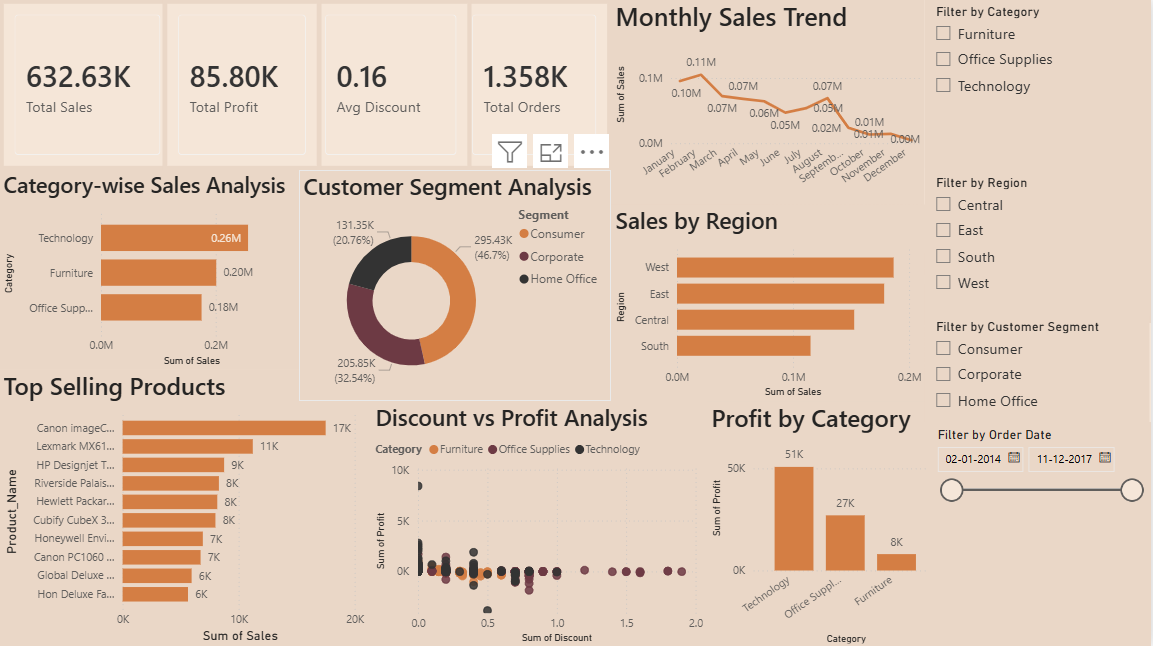

The dashboard page shown, as its layout file describes it:
{"tool":"powerbi","page":{"name":"Page 1","canvas":[1280,720],"ordinal":0},"visuals":[{"type":"cardVisual","fields":{"Data":["cleaned_superstore.Total Sales"]},"box":[0,0,196.7,190],"z":0},{"type":"cardVisual","fields":{"Data":["cleaned_superstore.Total Orders"]},"box":[508.9,0,172.2,190],"z":1},{"type":"cardVisual","fields":{"Data":["cleaned_superstore.Avg Discount"]},"box":[345.6,0,180,190],"z":2},{"type":"cardVisual","fields":{"Data":["cleaned_superstore.Total Profit"]},"box":[182.2,0,176.7,190],"z":3},{"type":"lineChart","title":"Monthly Sales Trend","fields":{"Category":["cleaned_superstore.Order_Date.Variation.Date Hierarchy.Month"],"Y":["Sum(cleaned_superstore.Sales)"]},"box":[680,0,348,236],"z":4},{"type":"barChart","title":"Category-wise Sales Analysis","fields":{"Category":["cleaned_superstore.Category"],"Y":["Sum(cleaned_superstore.Sales)"]},"box":[0,190,334,222],"z":5},{"type":"clusteredColumnChart","title":"Profit by Category","fields":{"Category":["cleaned_superstore.Category"],"Y":["Sum(cleaned_superstore.Profit)"]},"box":[786,446,262,274],"z":6},{"type":"barChart","title":"Sales by Region","fields":{"Category":["cleaned_superstore.Region"],"Y":["Sum(cleaned_superstore.Sales)"]},"box":[680,228.3,350,218.3],"z":7},{"type":"clusteredBarChart","title":"Top Selling Products","fields":{"Category":["cleaned_superstore.Product_Name"],"Y":["Sum(cleaned_superstore.Sales)"]},"box":[0,412,414,308],"z":8},{"type":"donutChart","title":"Customer Segment Analysis","fields":{"Y":["Sum(cleaned_superstore.Sales)"],"Category":["cleaned_superstore.Segment"]},"box":[334,190,346,256],"z":9},{"type":"scatterChart","title":"Discount vs Profit Analysis","fields":{"X":["Sum(cleaned_superstore.Discount)"],"Y":["Sum(cleaned_superstore.Profit)"],"Series":["cleaned_superstore.Category"],"Category":["cleaned_superstore.Sales"]},"box":[413.3,446.7,373.3,273.3],"z":10},{"type":"slicer","fields":{"Values":["cleaned_superstore.Region"]},"box":[1028,190,252,170],"z":11},{"type":"slicer","fields":{"Values":["cleaned_superstore.Category"]},"box":[1028,0,252,190],"z":12},{"type":"slicer","fields":{"Values":["cleaned_superstore.Segment"]},"box":[1028.3,350,250,120],"z":13},{"type":"slicer","fields":{"Values":["cleaned_superstore.Order_Date"]},"box":[1030,470,250,250],"z":14}]}

Visuals, with their boxes in screenshot pixels (x1, y1, x2, y2), scaled from the page's 1280x720 canvas onto the 1153x646 screenshot:
cardVisual - cleaned_superstore.Total Sales: x1=0, y1=0, x2=177, y2=170
cardVisual - cleaned_superstore.Total Orders: x1=458, y1=0, x2=614, y2=170
cardVisual - cleaned_superstore.Avg Discount: x1=311, y1=0, x2=473, y2=170
cardVisual - cleaned_superstore.Total Profit: x1=164, y1=0, x2=323, y2=170
"Monthly Sales Trend" lineChart: x1=613, y1=0, x2=926, y2=212
"Category-wise Sales Analysis" barChart: x1=0, y1=170, x2=301, y2=370
"Profit by Category" clusteredColumnChart: x1=708, y1=400, x2=944, y2=645
"Sales by Region" barChart: x1=613, y1=205, x2=928, y2=401
"Top Selling Products" clusteredBarChart: x1=0, y1=370, x2=373, y2=645
"Customer Segment Analysis" donutChart: x1=301, y1=170, x2=613, y2=400
"Discount vs Profit Analysis" scatterChart: x1=372, y1=401, x2=709, y2=645
slicer - cleaned_superstore.Region: x1=926, y1=170, x2=1152, y2=323
slicer - cleaned_superstore.Category: x1=926, y1=0, x2=1152, y2=170
slicer - cleaned_superstore.Segment: x1=926, y1=314, x2=1151, y2=422
slicer - cleaned_superstore.Order_Date: x1=928, y1=422, x2=1152, y2=645
